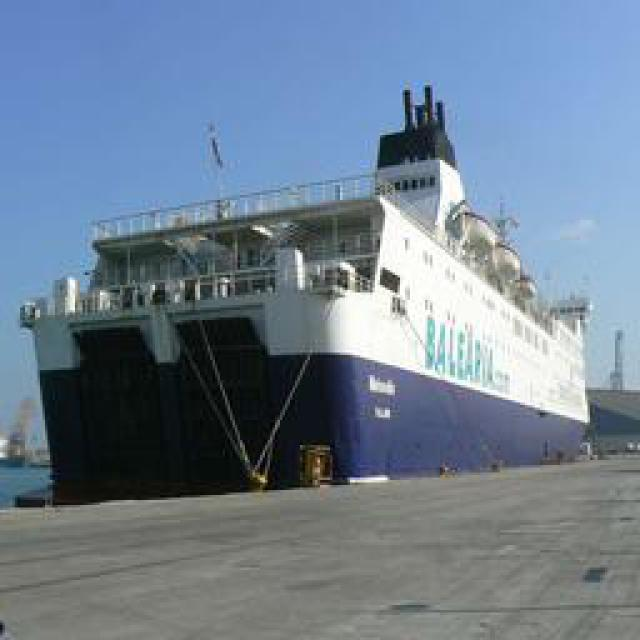Ship: (13, 78, 627, 510)
